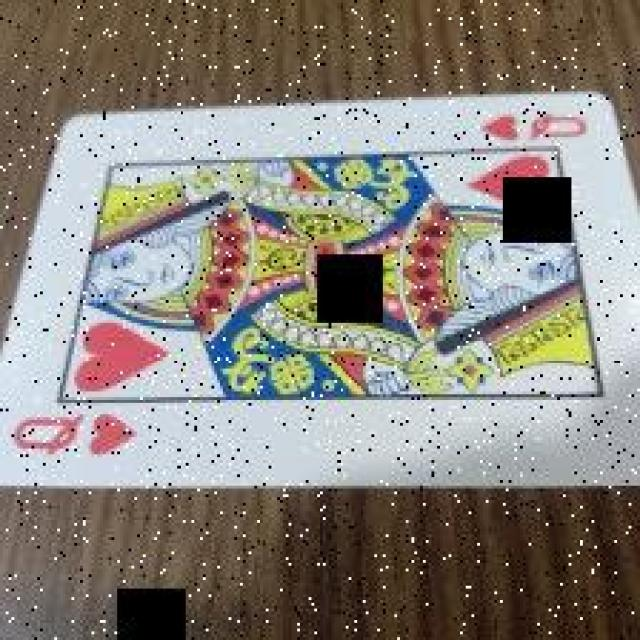Queen of hearts: (0, 95, 640, 486)
